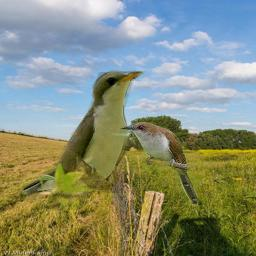Cuckoo: (22, 67, 146, 213), (120, 122, 198, 206)
